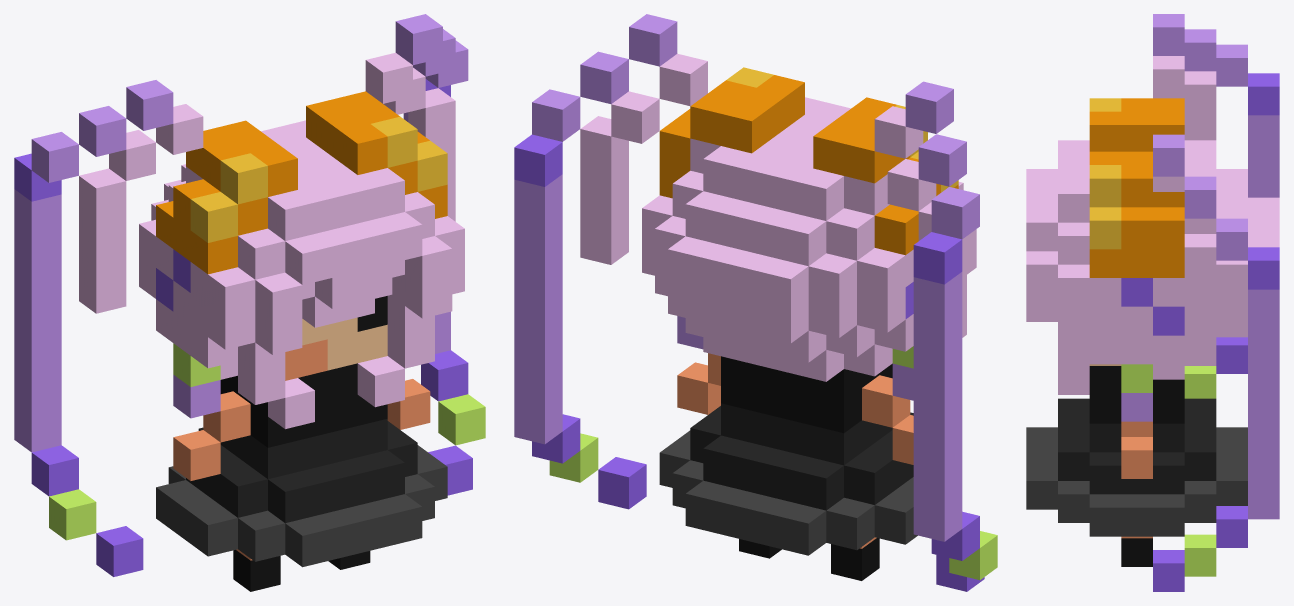
Rendered from chr_rain.obj.
3 renders of one model, left to right at view 1: azimuth 30°, elevation 25°; view 2: azimuth 150°, elevation 25°; view 3: azimuth 270°, elevation 25°, orthographic. The views are drawn at different scales.
Bounding box in the file's own units: 14 × 16 × 8.
Materials: 1 (1 with a texture image).
